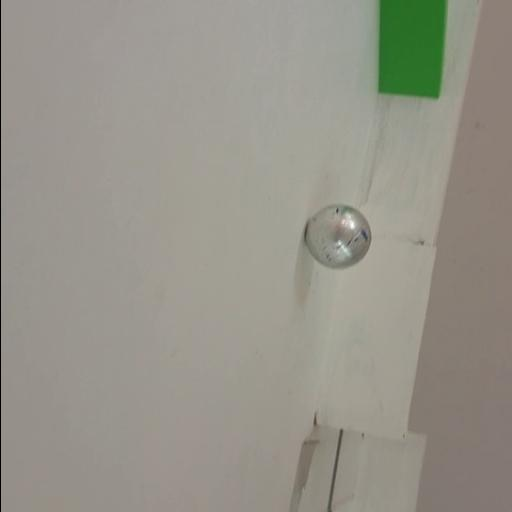alive: (302, 200, 374, 272)
